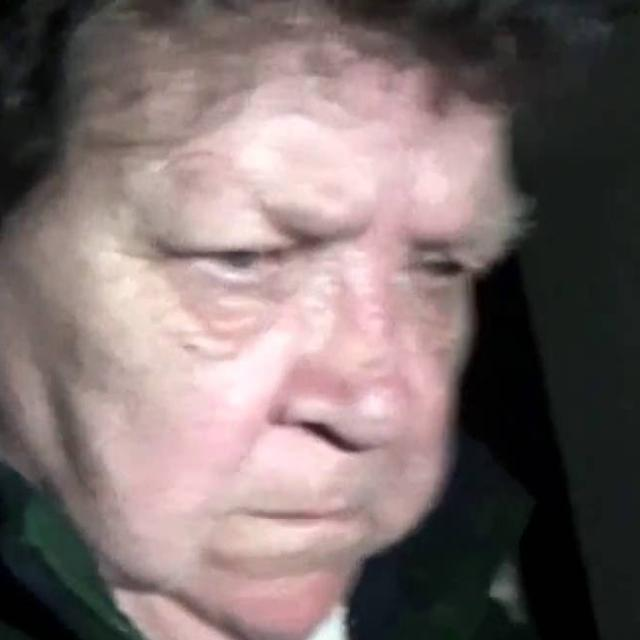Depress: (26, 13, 523, 639)
